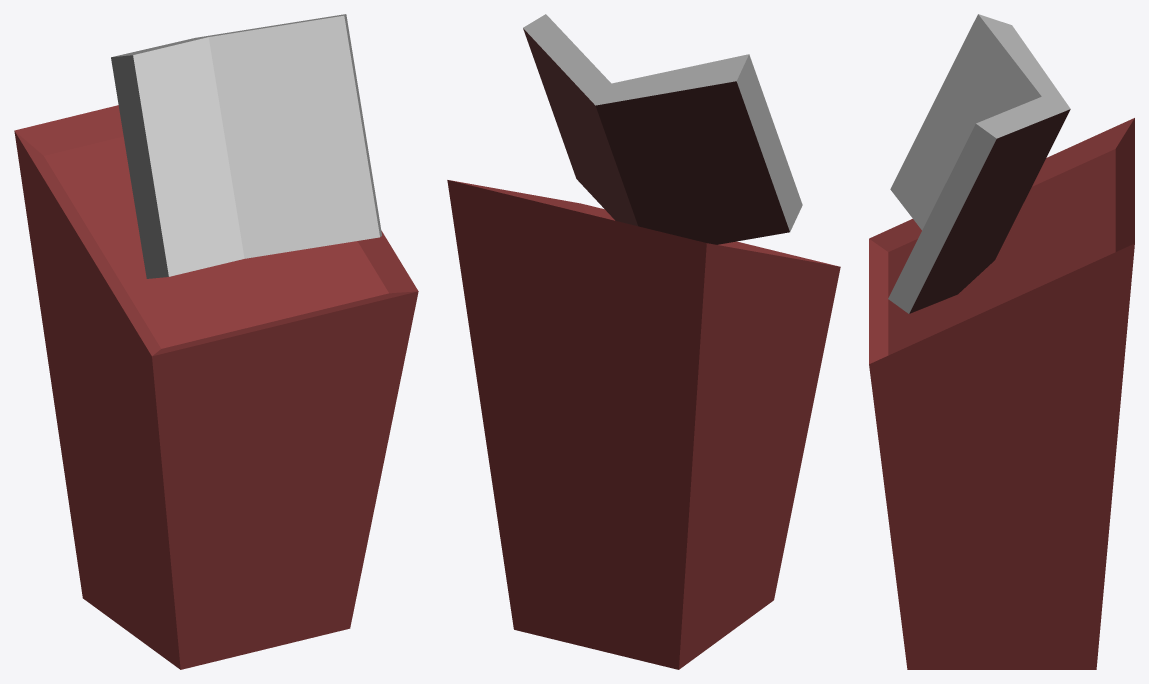
The model's file is booking.fbx.
3 renders of one model, left to right at view 1: azimuth 30°, elevation 25°; view 2: azimuth 150°, elevation 25°; view 3: azimuth 270°, elevation 25°, orthographic. The views are drawn at different scales.
Visible parts, largest first — view 1: pCube1, pCube2; view 2: pCube1, pCube2; view 3: pCube1, pCube2.
Boxes of the visible parts, <box> form: pCube1: <box>14,105,418,669</box>; pCube2: <box>111,14,381,278</box>; pCube1: <box>447,180,840,669</box>; pCube2: <box>523,14,802,244</box>; pCube1: <box>869,118,1134,669</box>; pCube2: <box>888,14,1070,313</box>.
Size of the model in its own units: 10.85 by 22.96 by 9.69.
